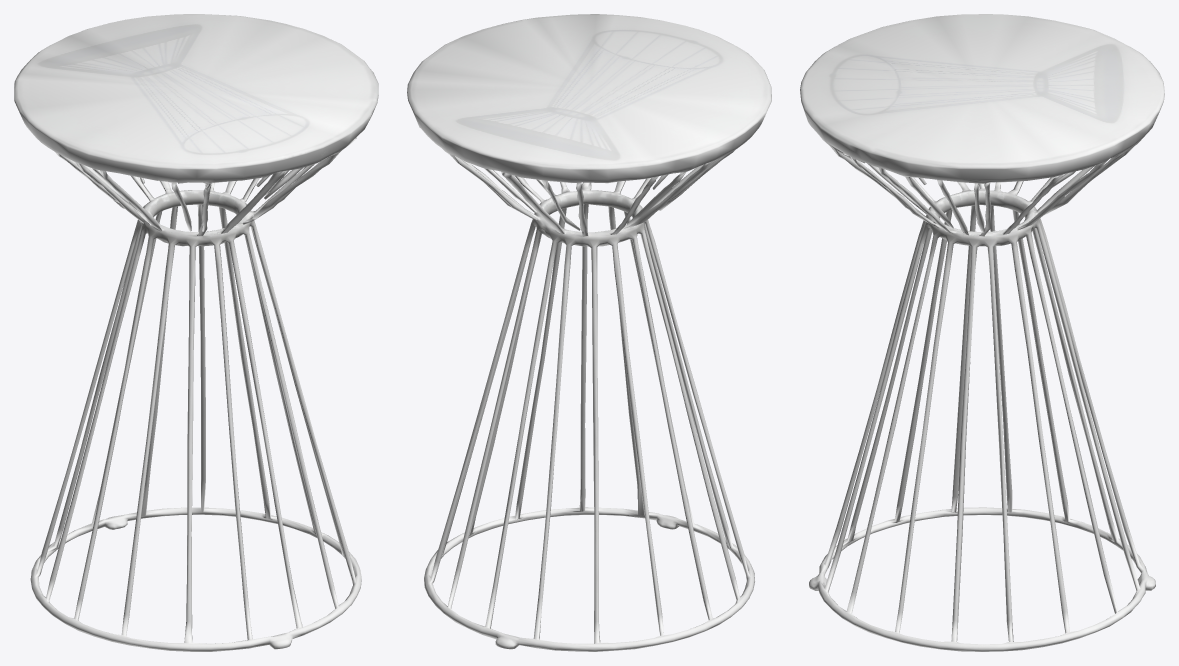
Rendered from Aria_Cocktail_Table__0404041125_texture.glb.
The picture shows the model from 3 angles, left to right: view 1: azimuth 30°, elevation 25°; view 2: azimuth 150°, elevation 25°; view 3: azimuth 270°, elevation 25°; orthographic projection.
Visible parts, largest first — view 1: Mesh_0.009; view 2: Mesh_0.009; view 3: Mesh_0.009.
Part boxes in pixels (<box>): Mesh_0.009: <box>14,14,378,651</box>; Mesh_0.009: <box>407,14,771,651</box>; Mesh_0.009: <box>800,14,1164,651</box>.
Bounding box in the file's own units: 0.7054 × 1.07 × 0.7075.
Materials: 1 (1 with a texture image).
